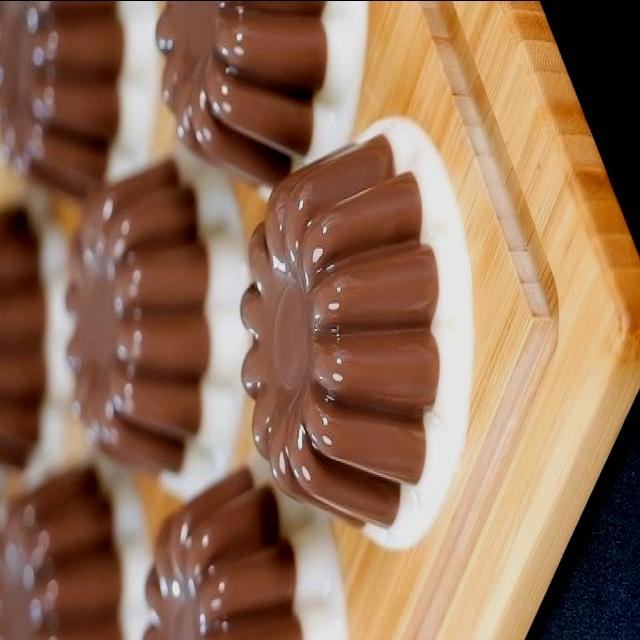puding: (240, 116, 475, 549)
